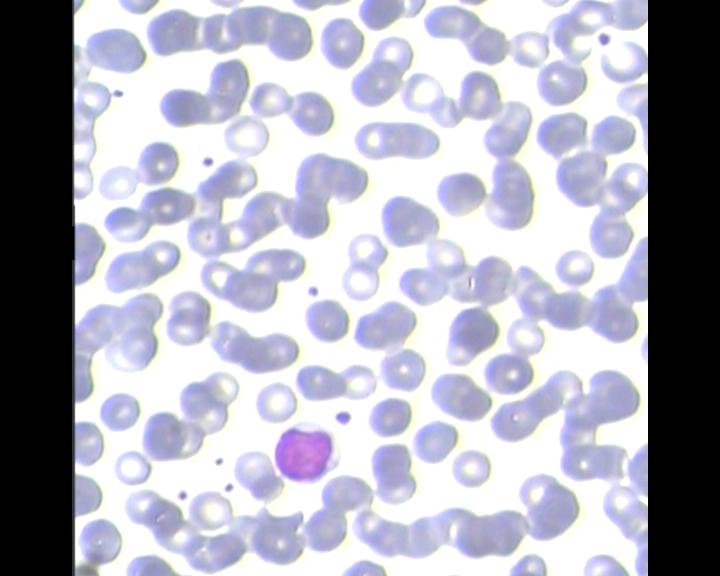lymp: (268, 418, 343, 485)
